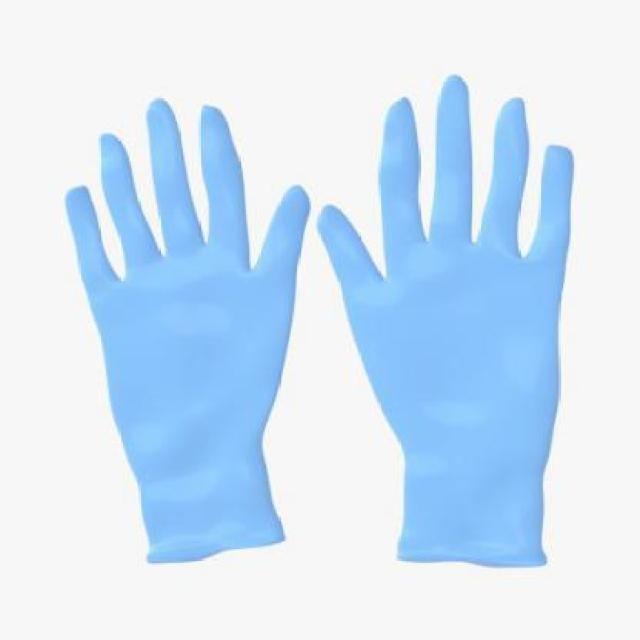B3: (318, 72, 574, 576), (48, 85, 312, 567)
